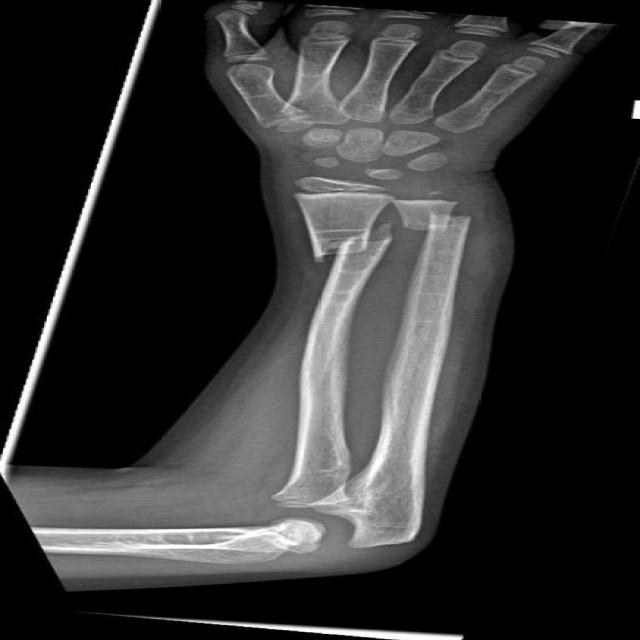Oblique: (294, 217, 399, 282)
Transverse: (405, 202, 482, 250)
